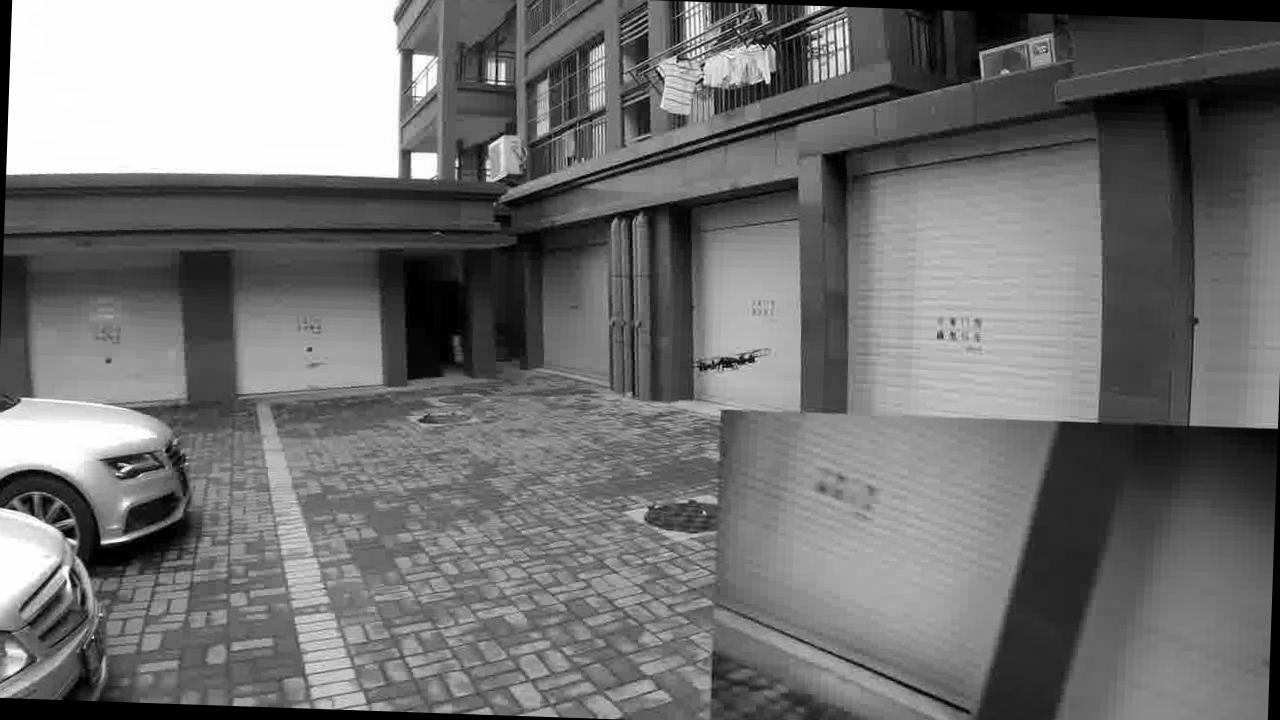drone: (688, 340, 774, 374)
